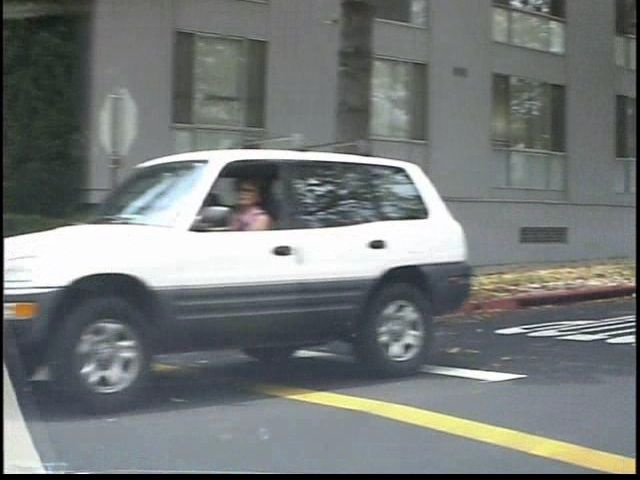person: (233, 166, 320, 394)
